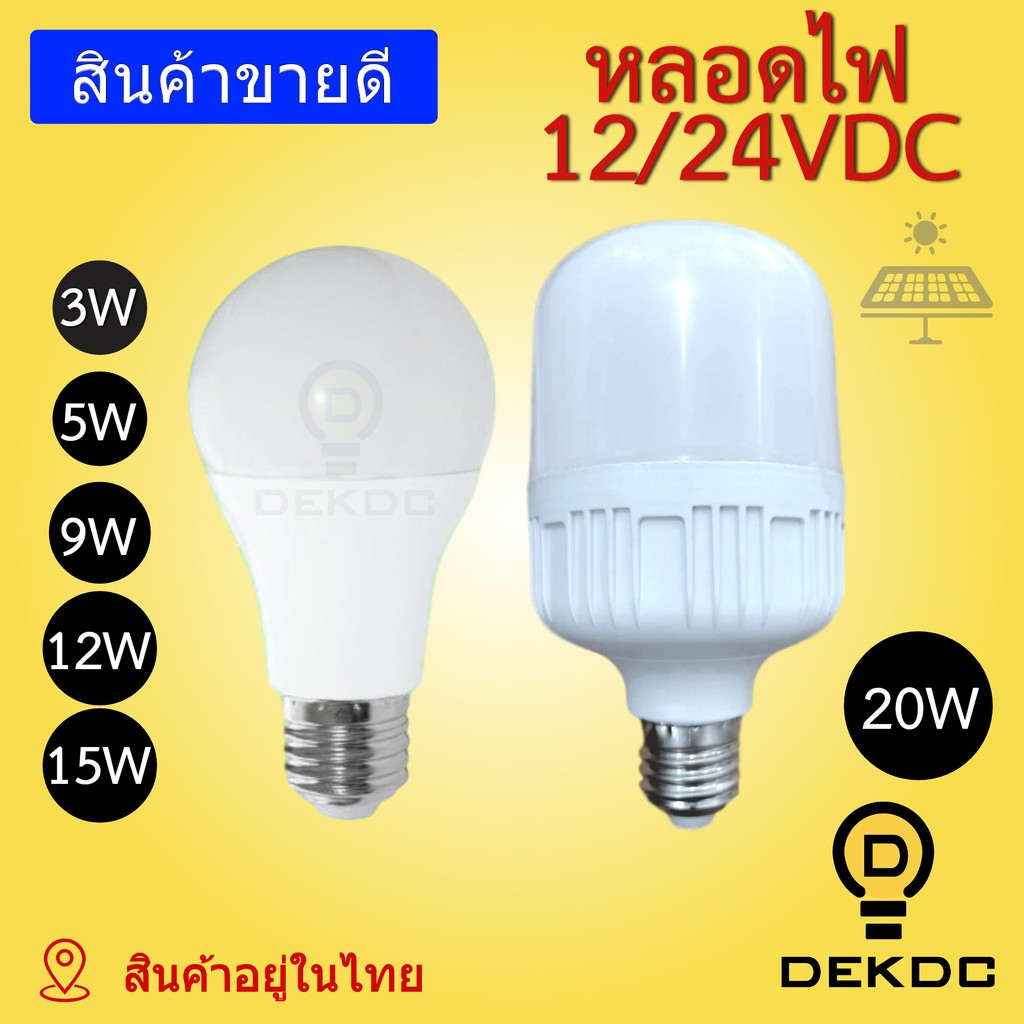Light_bulb: (519, 207, 854, 849), (181, 235, 504, 828)
